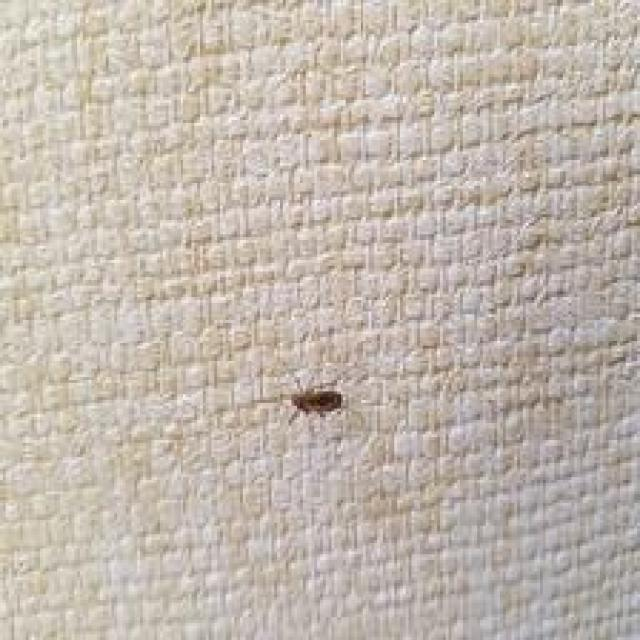Culex: (287, 386, 344, 426)
